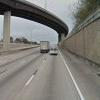Bridge: (14, 1, 95, 40)
